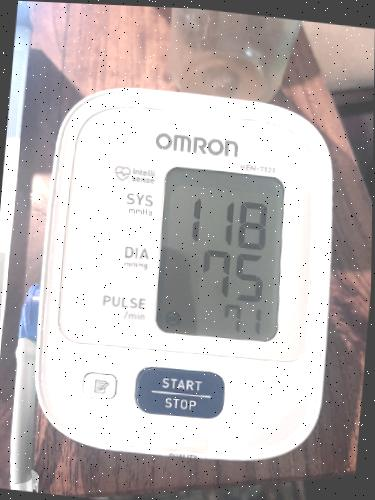bpm: (150, 163, 291, 344)
